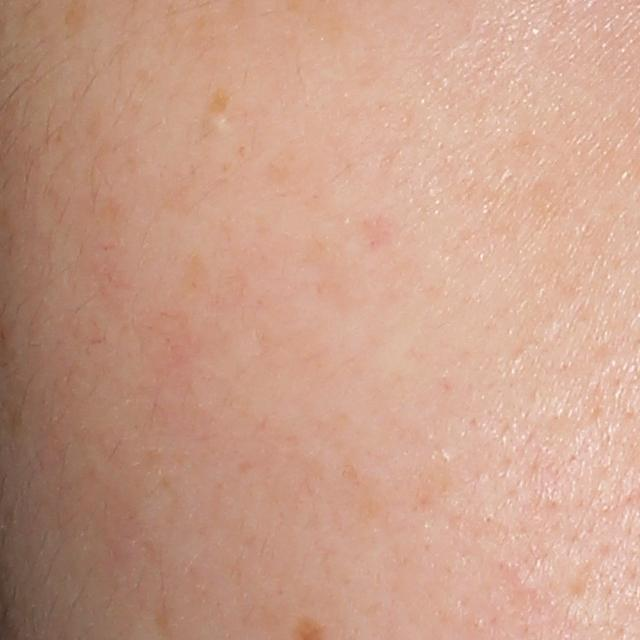comedo: (202, 115, 227, 136)
melasma: (203, 74, 238, 117)
